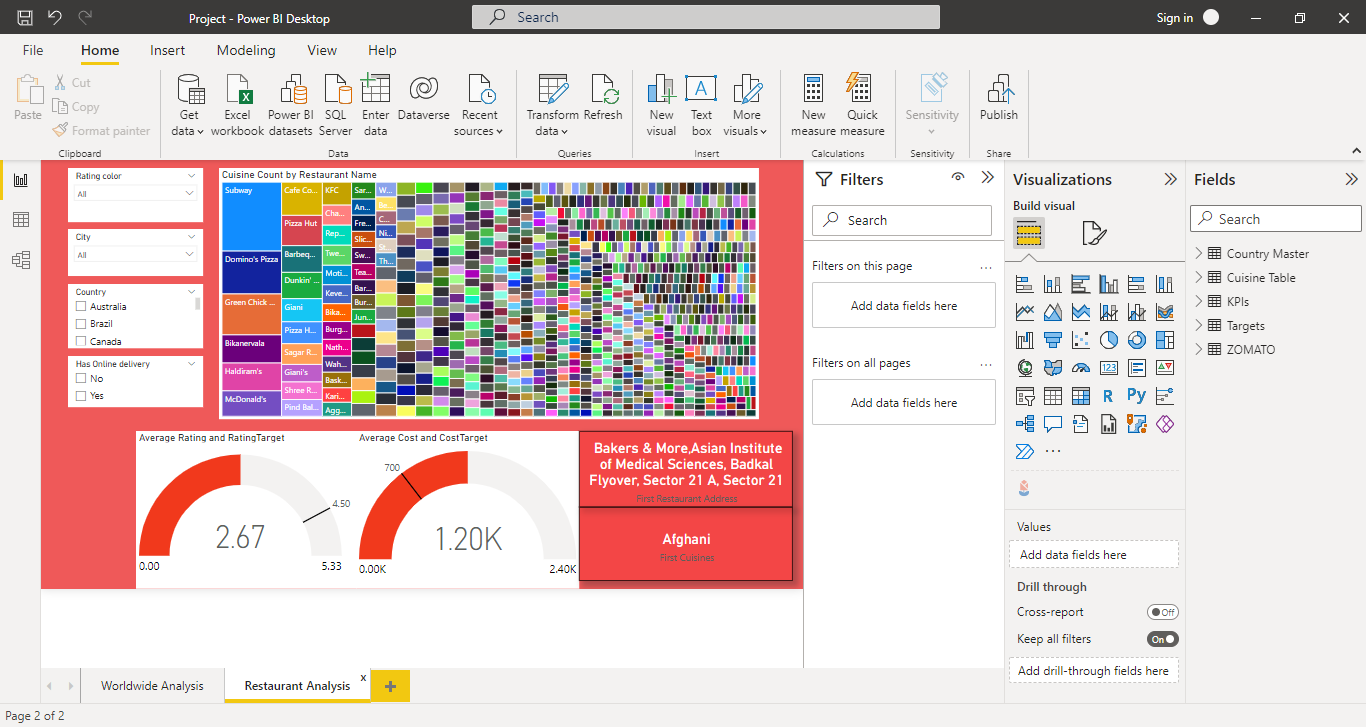

The dashboard page shown, as its layout file describes it:
{"tool":"powerbi","page":{"name":"Restaurant Analysis","canvas":[1280,720],"ordinal":1},"visuals":[{"type":"slicer","fields":{"Values":["KPIs.Rating color"]},"box":[45.4,13.4,226.8,90.7],"z":0},{"type":"gauge","fields":{"Y":["KPIs.Average Cost"],"TargetValue":["Sum(Targets.CostTarget)"]},"box":[529.1,455.2,374.6,265.4],"z":1000},{"type":"gauge","fields":{"Y":["KPIs.Average Rating"],"TargetValue":["Sum(Targets.RatingTarget)"]},"box":[159.6,455.2,369.6,265.4],"z":2000},{"type":"treemap","fields":{"Values":["ZOMATO.Cuisine Count"],"Group":["ZOMATO.Restaurant Name"]},"box":[299,13.4,907.1,421.6],"z":3001},{"type":"card","fields":{"Values":["Min(ZOMATO.Restaurant Address)"]},"box":[903.7,455.2,359.5,127.7],"z":3002},{"type":"slicer","fields":{"Values":["ZOMATO.City"]},"box":[45.4,115.9,226.8,79],"z":3004},{"type":"slicer","fields":{"Values":["KPIs.Has Online delivery"]},"box":[45.4,329.2,226.8,85.7],"z":3005},{"type":"card","fields":{"Values":["Min(ZOMATO.Cuisines)"]},"box":[903.7,582.9,359.5,124.3],"z":3006},{"type":"slicer","fields":{"Values":["Country Master.Country"]},"box":[45.4,208.3,226.8,107.5],"z":3007}]}

Visuals, with their boxes on the page's 1280x720 design canvas (x1, y1, x2, y2). These are canvas units, not pixel positions in the 1366x727 screenshot, which may show the page scaled, cropped or inside an application window:
slicer - KPIs.Rating color: detection(45, 13, 272, 104)
gauge - KPIs.Average Cost x Sum(Targets.CostTarget): detection(529, 455, 904, 721)
gauge - KPIs.Average Rating x Sum(Targets.RatingTarget): detection(160, 455, 529, 721)
treemap - ZOMATO.Cuisine Count x ZOMATO.Restaurant Name: detection(299, 13, 1206, 435)
card - Min(ZOMATO.Restaurant Address): detection(904, 455, 1263, 583)
slicer - ZOMATO.City: detection(45, 116, 272, 195)
slicer - KPIs.Has Online delivery: detection(45, 329, 272, 415)
card - Min(ZOMATO.Cuisines): detection(904, 583, 1263, 707)
slicer - Country Master.Country: detection(45, 208, 272, 316)
